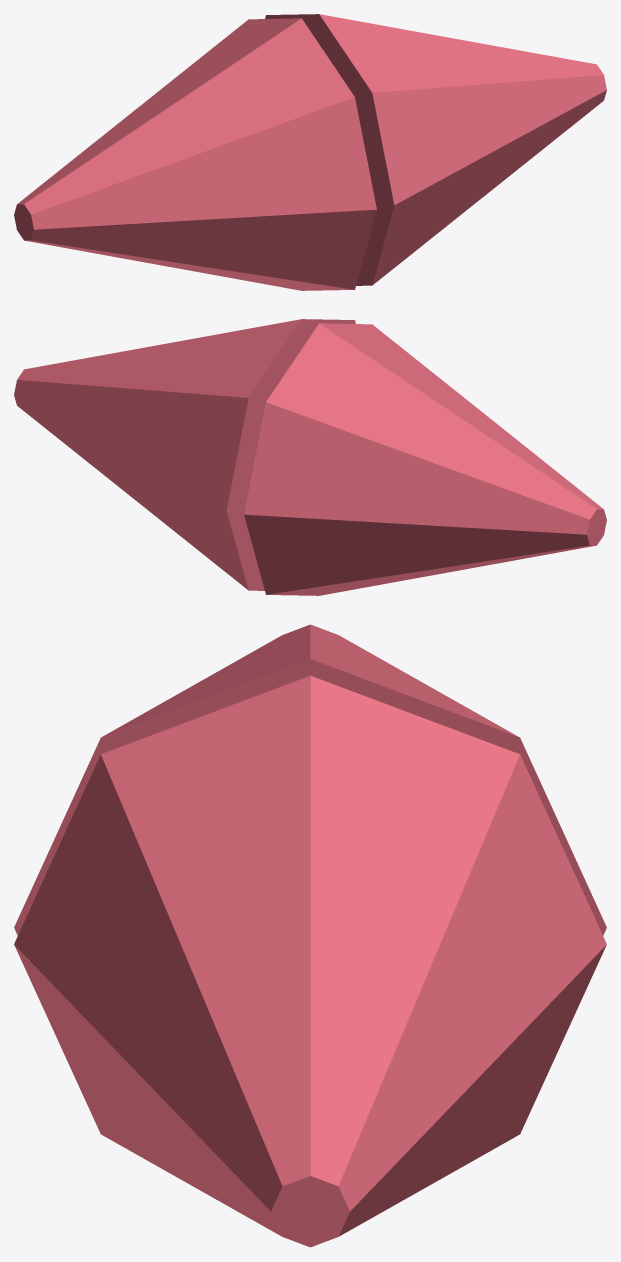
File: tail_ribbon.glb
The picture shows the model from 3 angles, top to bottom: view 1: azimuth 30°, elevation 25°; view 2: azimuth 150°, elevation 25°; view 3: azimuth 270°, elevation 25°; orthographic projection. The views are drawn at different scales.
Parts seen in each view (by area): view 1: Cone, Cone.001; view 2: Cone, Cone.001; view 3: Cone.001, Cone.
Part boxes in pixels (x1,y1,x2,y2): Cone: (14, 18, 376, 290); Cone.001: (265, 14, 606, 285); Cone: (244, 323, 606, 595); Cone.001: (14, 319, 355, 590); Cone.001: (14, 675, 606, 1247); Cone: (14, 624, 606, 935).
Size of the model in its own units: 0.33 by 0.15 by 0.15.
